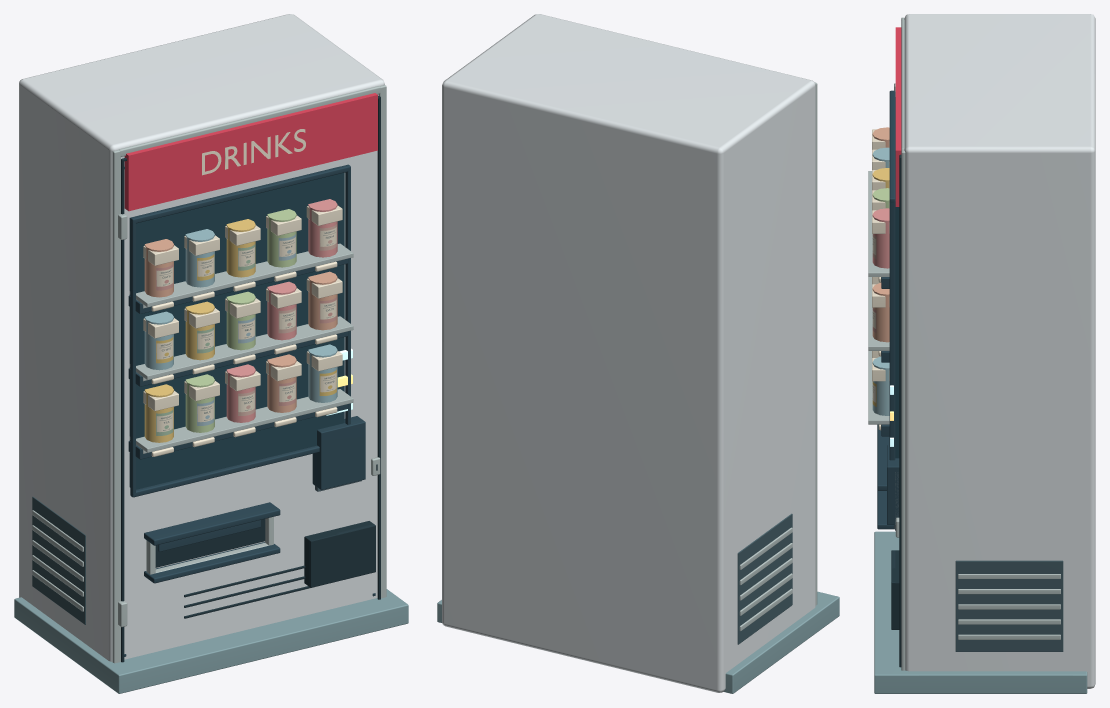
The model's file is vending.glb.
3 views of the same model, side by side, from view 1: azimuth 30°, elevation 25°; view 2: azimuth 150°, elevation 25°; view 3: azimuth 270°, elevation 25° (orthographic). The views are drawn at different scales.
Visible parts, largest first — view 1: Vending shell.001, Existing vending display.001, Folded cabinet face.002, Display side bezel.002, Existing vending header.001, Existing vending base reference.001, Payment display.001, Selection button.015, Bottle label.015, Vending side recessed vent.002, Existing vending drink reference.019, Existing vending drink reference.016 (+3 smaller); view 2: Vending shell.001, Vending side recessed vent.002, Folded cabinet face.002, Existing vending base reference.001; view 3: Vending shell.001, Folded cabinet face.002, Existing vending base reference.001, Vending side recessed vent.002, Display side bezel.002, Payment display.001, Selection button.015, Existing vending display.001, Existing vending header.001, Existing vending drink reference.015, Existing vending drink reference.016, Existing vending drink reference.019.
Part boxes in pixels (left/top/right/bottom): Vending shell.001: left=19, top=14, right=384, bottom=661; Existing vending display.001: left=129, top=167, right=344, bottom=489; Folded cabinet face.002: left=32, top=85, right=386, bottom=663; Display side bezel.002: left=124, top=164, right=375, bottom=656; Existing vending header.001: left=124, top=93, right=377, bottom=211; Existing vending base reference.001: left=14, top=589, right=408, bottom=693; Payment display.001: left=121, top=96, right=380, bottom=662; Selection button.015: left=143, top=129, right=342, bottom=456; Bottle label.015: left=156, top=224, right=336, bottom=435; Vending side recessed vent.002: left=32, top=496, right=85, bottom=624; Existing vending drink reference.019: left=226, top=199, right=337, bottom=422; Existing vending drink reference.016: left=144, top=229, right=337, bottom=402; Vending shell.001: left=442, top=14, right=815, bottom=692; Vending side recessed vent.002: left=737, top=513, right=792, bottom=644; Folded cabinet face.002: left=739, top=82, right=817, bottom=631; Existing vending base reference.001: left=437, top=591, right=839, bottom=693; Vending shell.001: left=904, top=14, right=1095, bottom=688; Folded cabinet face.002: left=868, top=17, right=1060, bottom=670; Existing vending base reference.001: left=874, top=531, right=1087, bottom=693; Vending side recessed vent.002: left=955, top=560, right=1063, bottom=651; Display side bezel.002: left=877, top=90, right=899, bottom=529; Payment display.001: left=891, top=154, right=901, bottom=667; Selection button.015: left=872, top=129, right=889, bottom=430; Existing vending display.001: left=895, top=97, right=899, bottom=458; Existing vending header.001: left=895, top=27, right=901, bottom=206; Existing vending drink reference.015: left=872, top=127, right=889, bottom=342; Existing vending drink reference.016: left=872, top=147, right=889, bottom=415; Existing vending drink reference.019: left=872, top=208, right=889, bottom=268.
Bounding box in the file's own units: 1.42 × 2.5 × 0.95.
19 materials, 1 textured.
